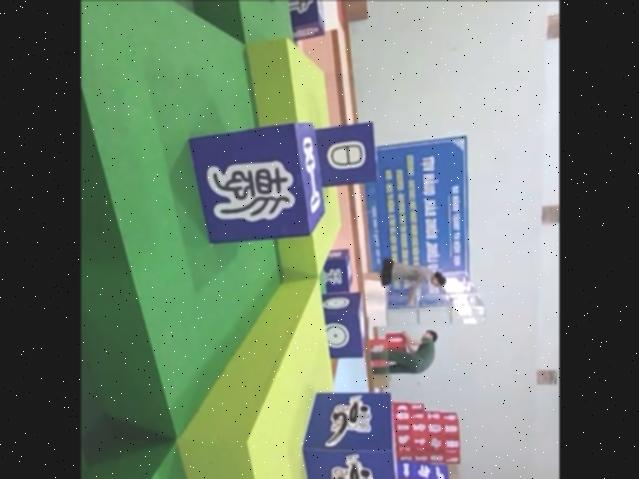R1 Blue: (297, 390, 397, 479)
R2 Fake Blue: (186, 122, 326, 245), (311, 119, 376, 185), (285, 0, 322, 37)
R2 Real Blue: (319, 293, 363, 359), (321, 249, 351, 294), (321, 248, 351, 293)
